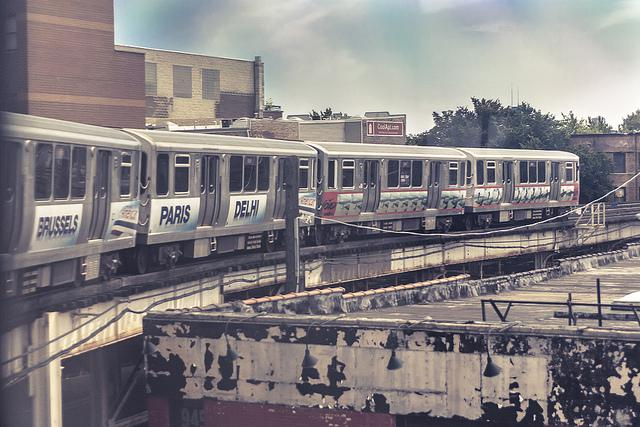Train: (2, 112, 583, 298)
